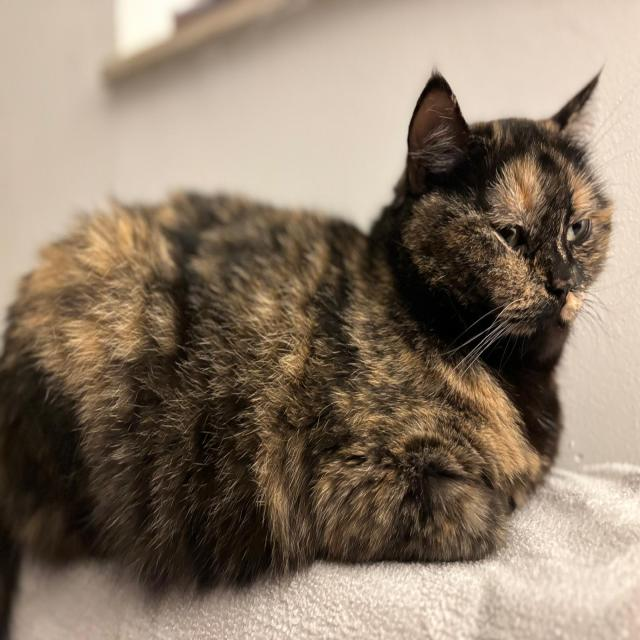authorized: (1, 62, 616, 636)
